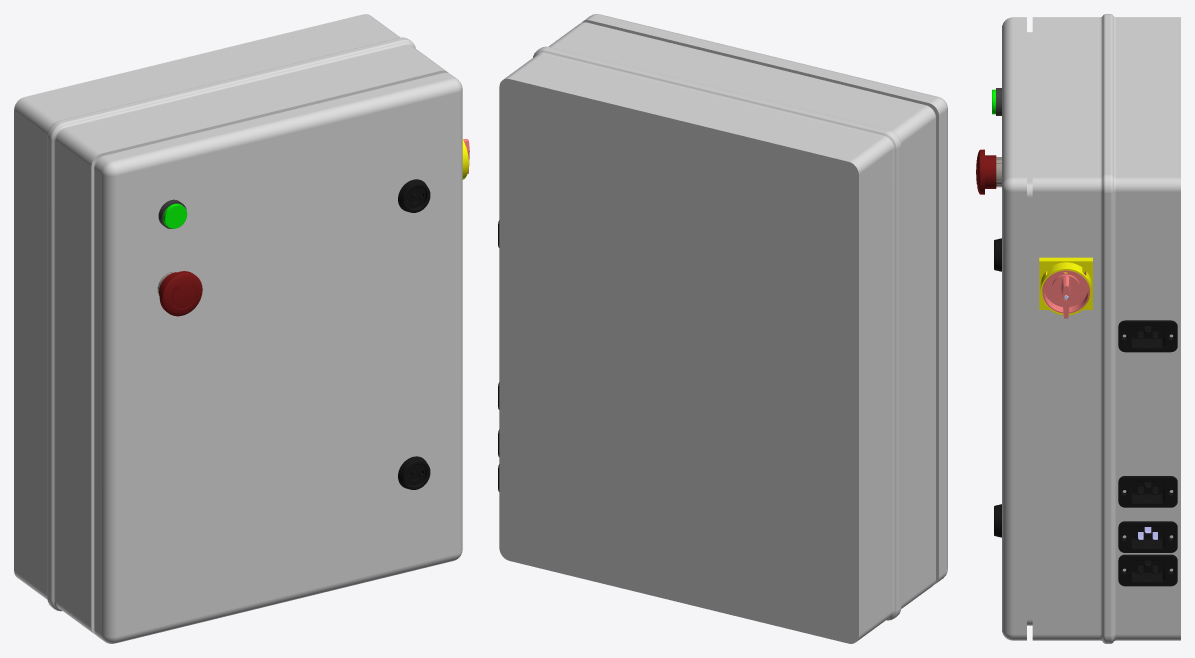
File: Armario.fbx
The picture shows the model from 3 angles, left to right: view 1: azimuth 30°, elevation 25°; view 2: azimuth 150°, elevation 25°; view 3: azimuth 270°, elevation 25°; orthographic projection. The views are drawn at different scales.
Visible parts, largest first — view 1: Body_1, 3DGeom~257, Body_1_3, Body_1_2; view 2: Body_1; view 3: Body_1, 3DGeom~891_3, 3DGeom~891_2, 3DGeom~891_4, 3DGeom~891, 3DGeom~452, 3DGeom~451, 3DGeom~257.
Part boxes in pixels (box(x1,y1,x2,y2)): Body_1: box(14, 14, 462, 643); 3DGeom~257: box(159, 271, 202, 316); Body_1_3: box(398, 456, 430, 489); Body_1_2: box(398, 179, 430, 212); Body_1: box(499, 14, 947, 643); Body_1: box(1002, 14, 1180, 643); 3DGeom~891_3: box(1118, 554, 1177, 586); 3DGeom~891_2: box(1118, 320, 1177, 352); 3DGeom~891_4: box(1118, 476, 1177, 507); 3DGeom~891: box(1118, 521, 1177, 552); 3DGeom~452: box(1042, 270, 1089, 318); 3DGeom~451: box(1039, 257, 1092, 315); 3DGeom~257: box(976, 149, 996, 194).
Size of the model in its own units: 0.393 by 0.183 by 0.462.
